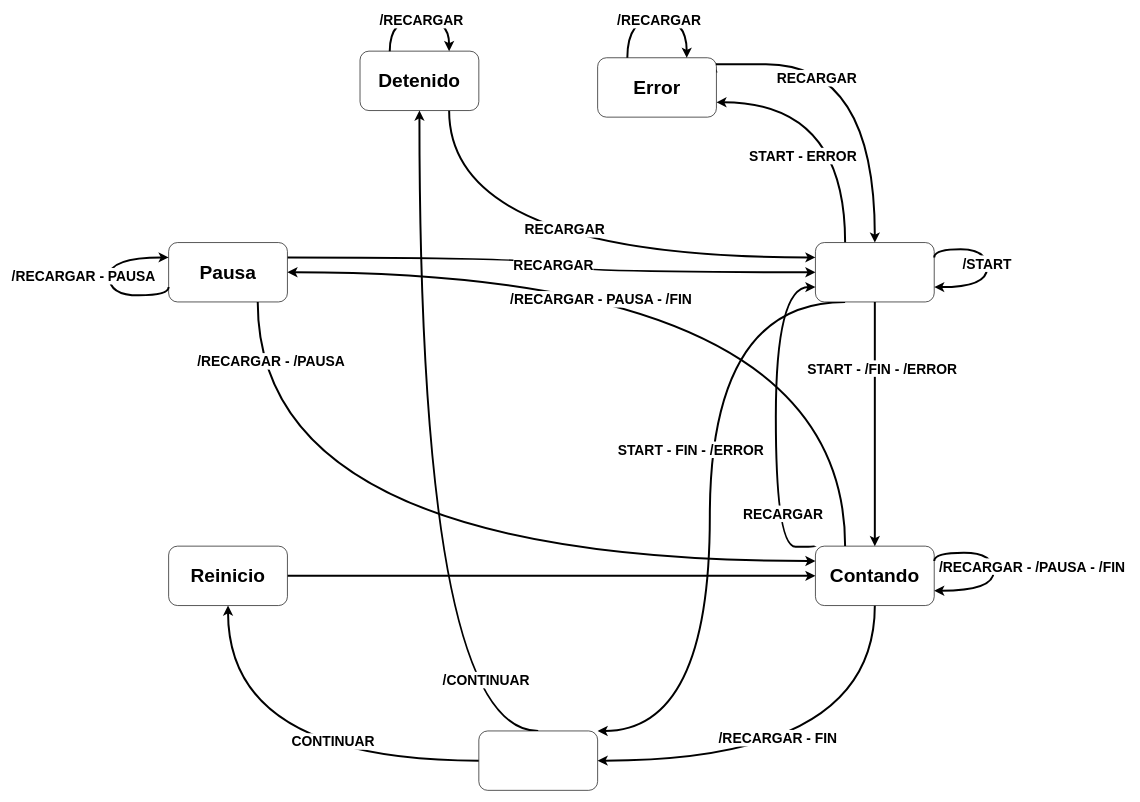
Image size: 1140x802. Some labels were removed from this diagram. Each missing label, with the box of its shape:
Carga: (815, 242, 934, 302)
Fin: (478, 730, 598, 790)
